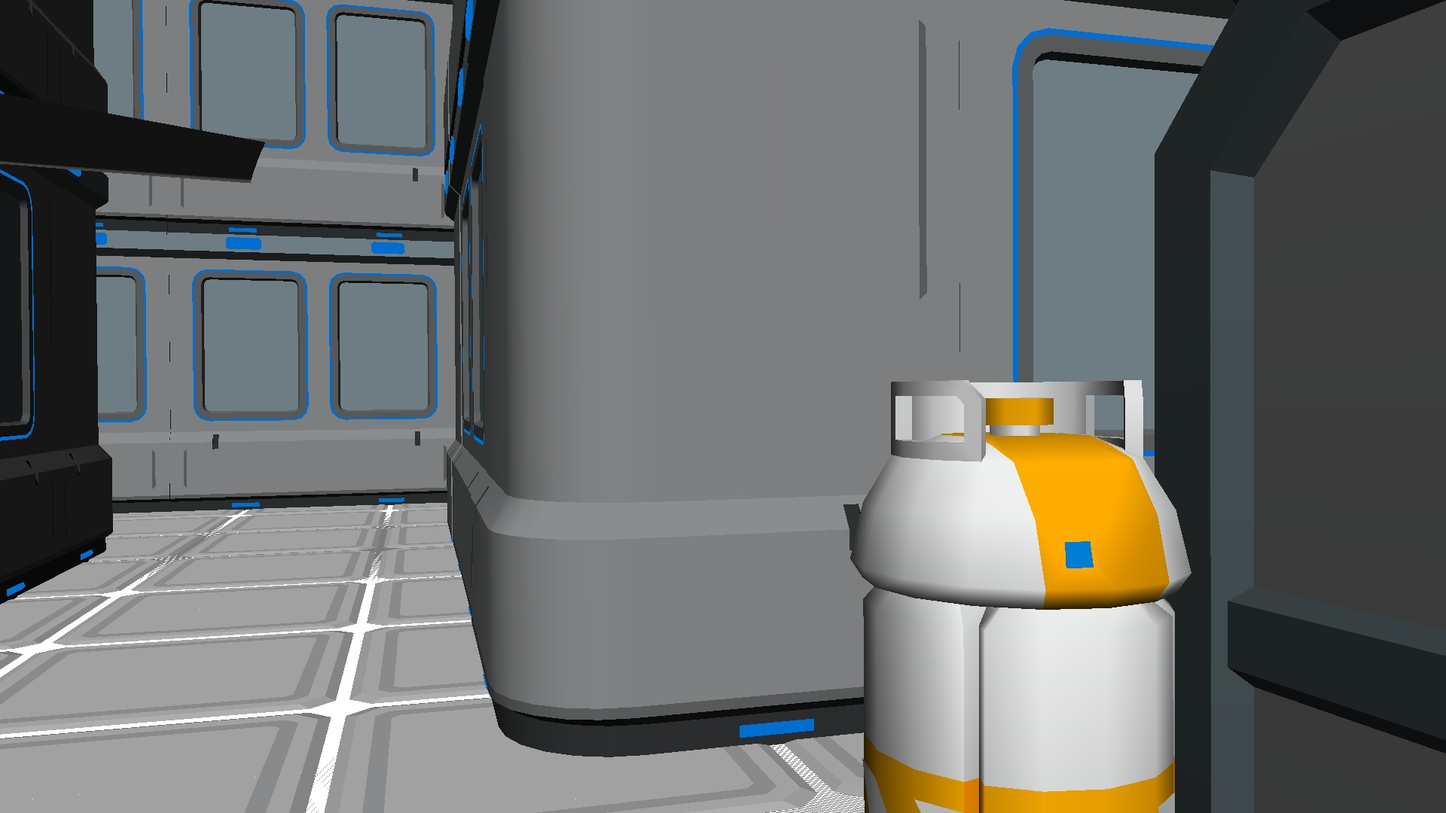yellow barrel: (841, 378, 1191, 813)
